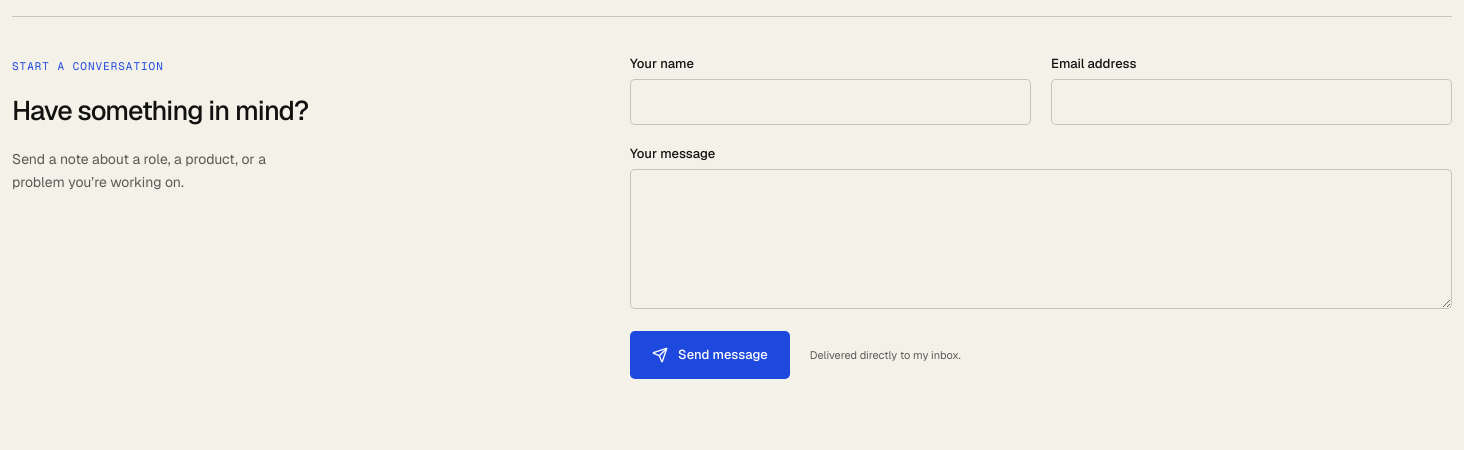
Test case: validates before sending
The image size is (1464, 450).
Click the button "Send message" at (710, 355), box x1=630 y1=331 x2=790 y2=379
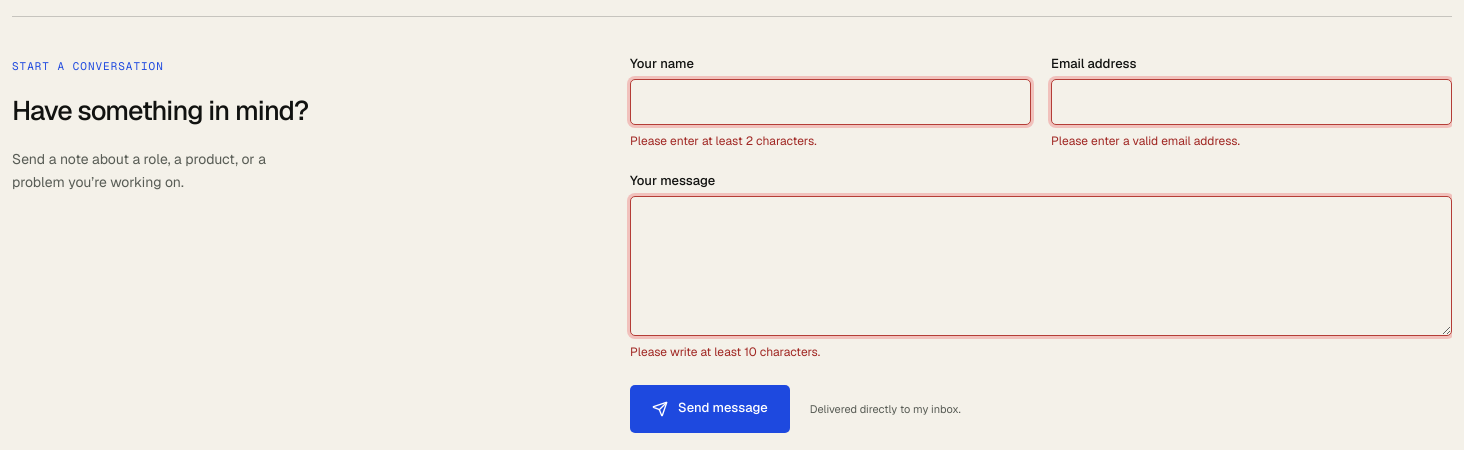
Now the text "Please enter at least 2 characters." is shown, box x1=630 y1=133 x2=817 y2=149
